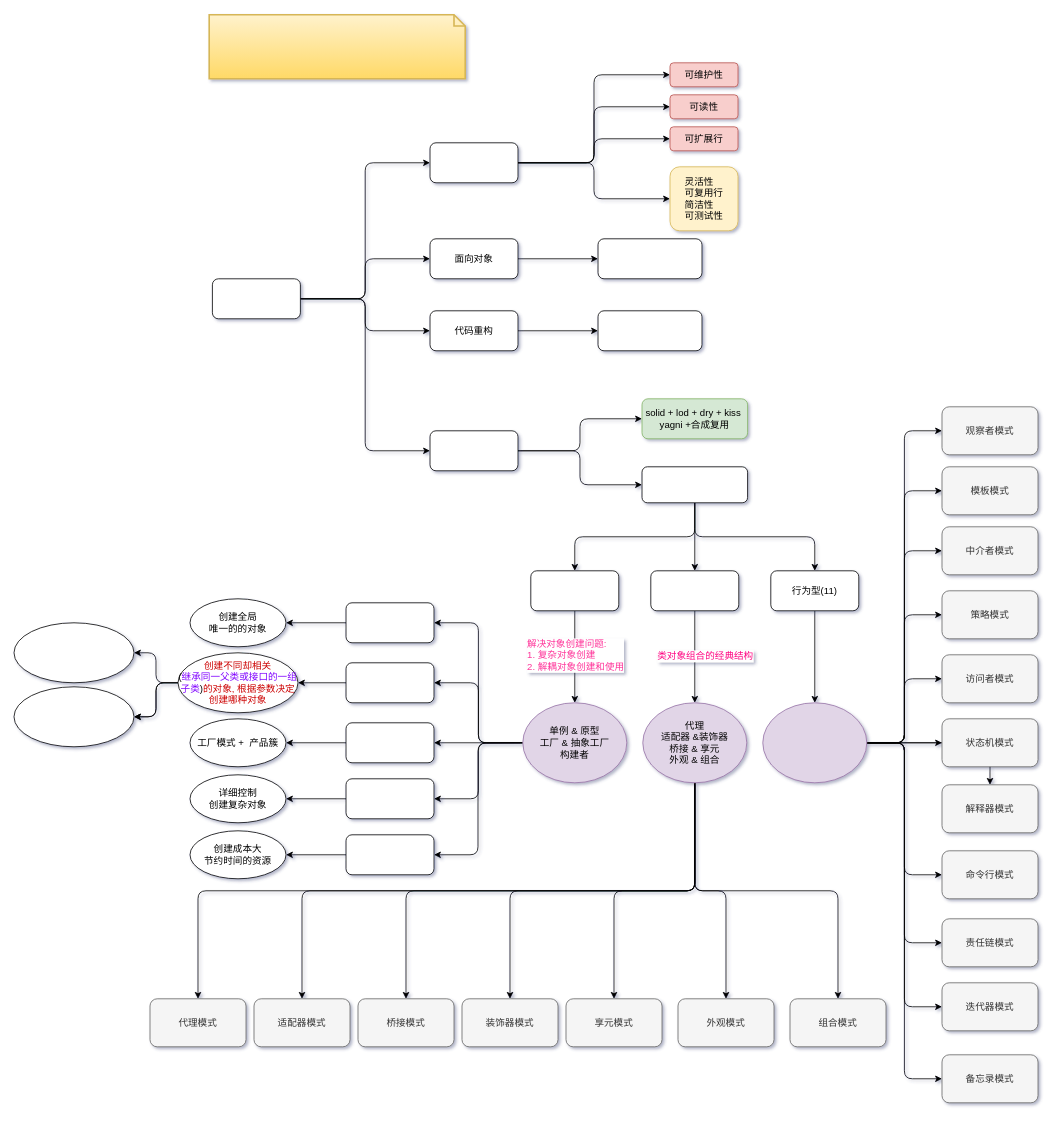
The diagram is 1057 pixels wide and 1122 high, and some of its shapes have lost their labels. The shapes that lost their labels are listed below. From the top down, each one's centre as x and y in pixels, then its label:
(x=337, y=46): 1. 设计原则及模式的目的: 写出高质量代码 2. OOP 的本质: 把代码放到合适的类型
(x=473, y=162): 高质量代码
(x=649, y=258): 封装继承多态 抽象
(x=256, y=298): code quality
(x=649, y=330): 编码规范 & 持续小重构
(x=473, y=450): 设计原则
(x=694, y=484): 设计模式: 23
(x=574, y=590): 创建型(5)
(x=694, y=590): 结构型(7)
(x=389, y=622): 单例模式
(x=73, y=652): 可以考虑创建 Map去简化条件 if
(x=389, y=682): 工厂模式(简单)
(x=73, y=716): 简单工厂不需要继承 与接口直接根据参数创建不同的对象
(x=389, y=742): 抽象工厂模式
(x=814, y=742): 观模中策 访状解命 责迭备
(x=389, y=798): 构建者模式
(x=389, y=854): 原型模式
